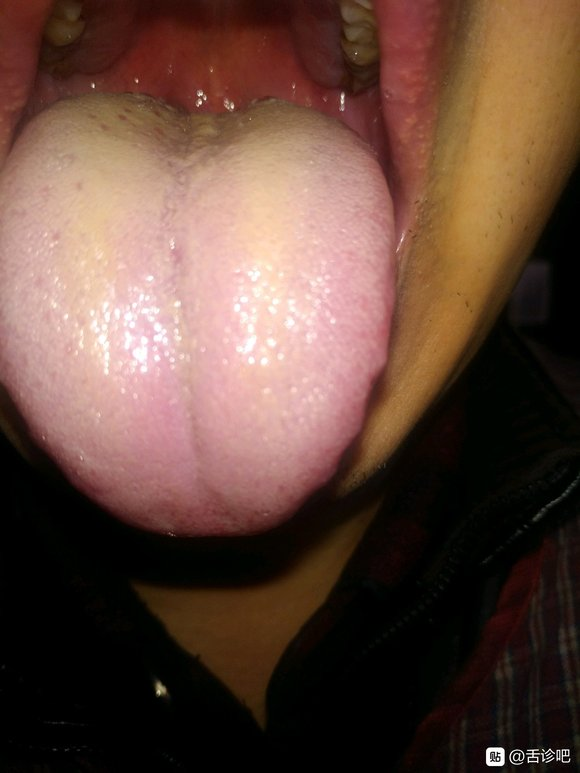chihenshe: (330, 287, 396, 470)
huangtaishe: (1, 91, 395, 537)
shenquao: (110, 91, 276, 135)
